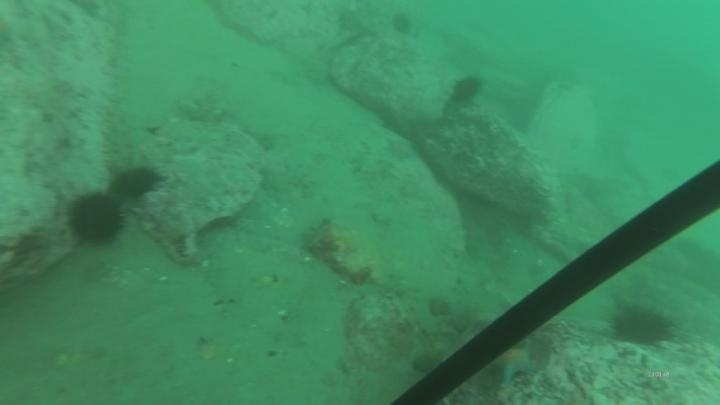echinus: (65, 190, 127, 248), (607, 301, 676, 349), (109, 163, 163, 202), (448, 73, 485, 107), (388, 10, 416, 38)
holothurian: (98, 101, 136, 174)
starfish: (488, 340, 540, 386), (382, 133, 417, 164)
